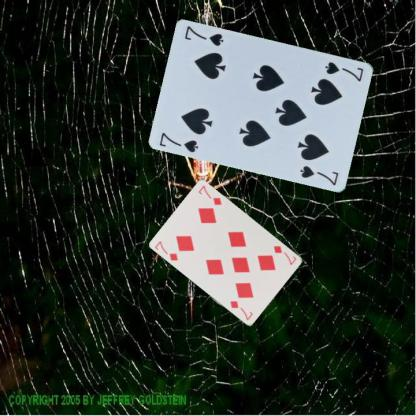7d: (152, 238, 180, 262), (271, 243, 298, 266)
7s: (156, 129, 200, 154), (322, 59, 366, 83)
